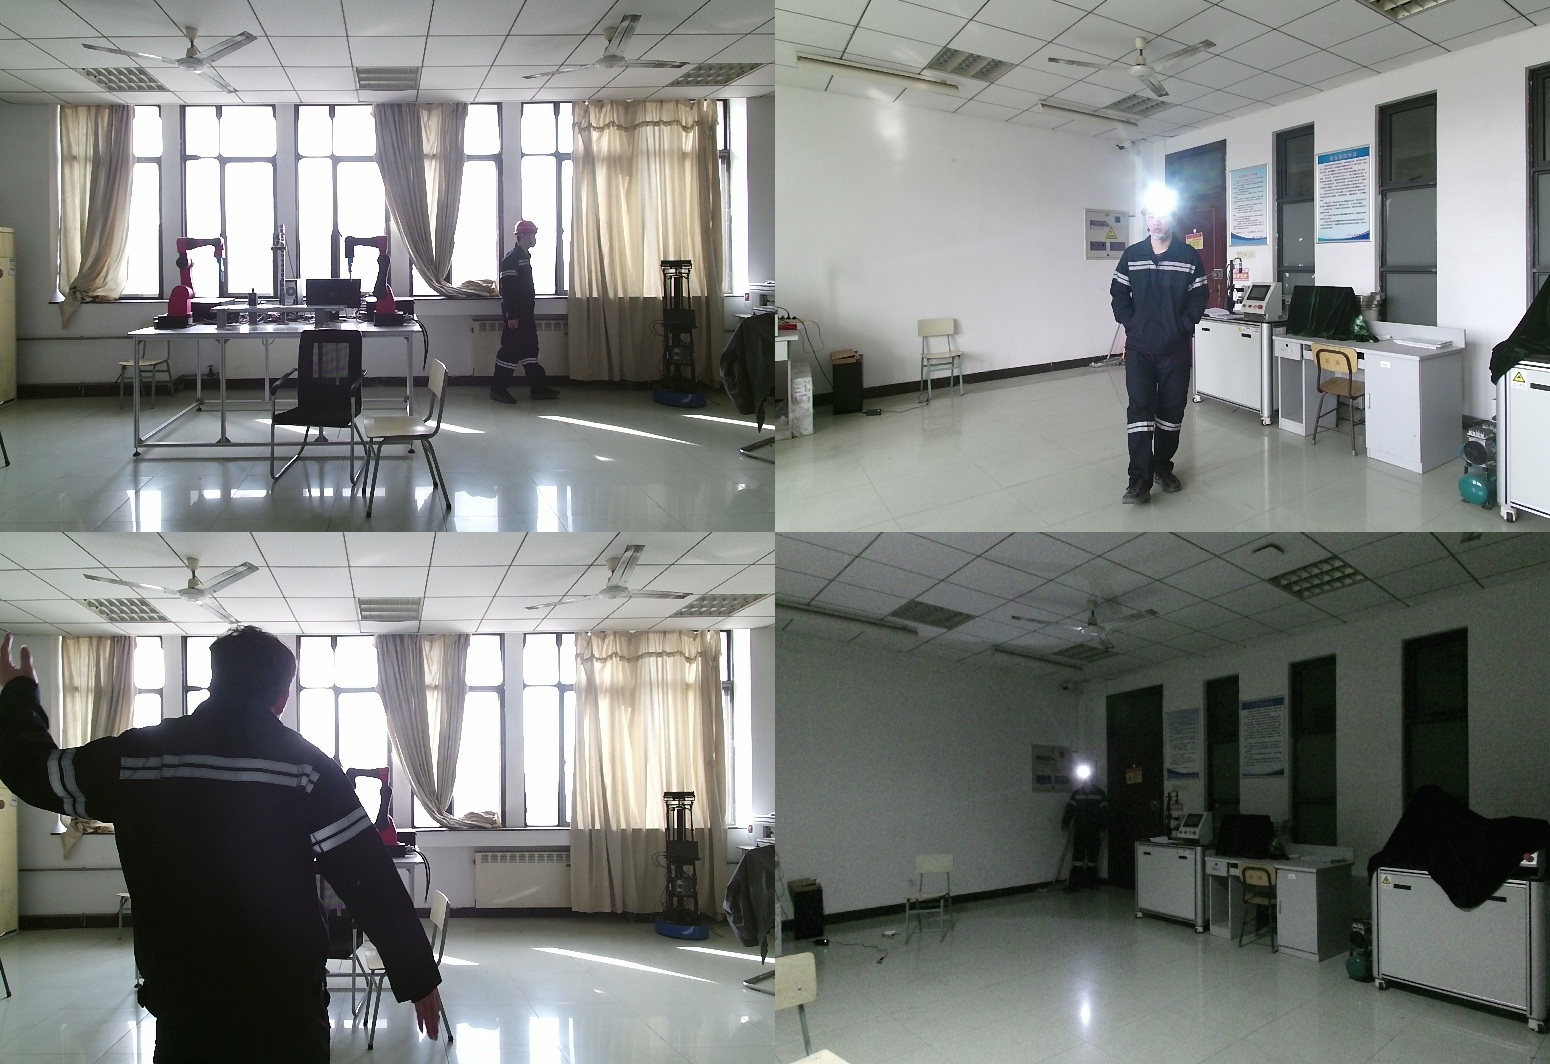person: (1, 629, 451, 1064), (1113, 193, 1224, 503), (490, 220, 562, 412), (1062, 769, 1108, 894)
